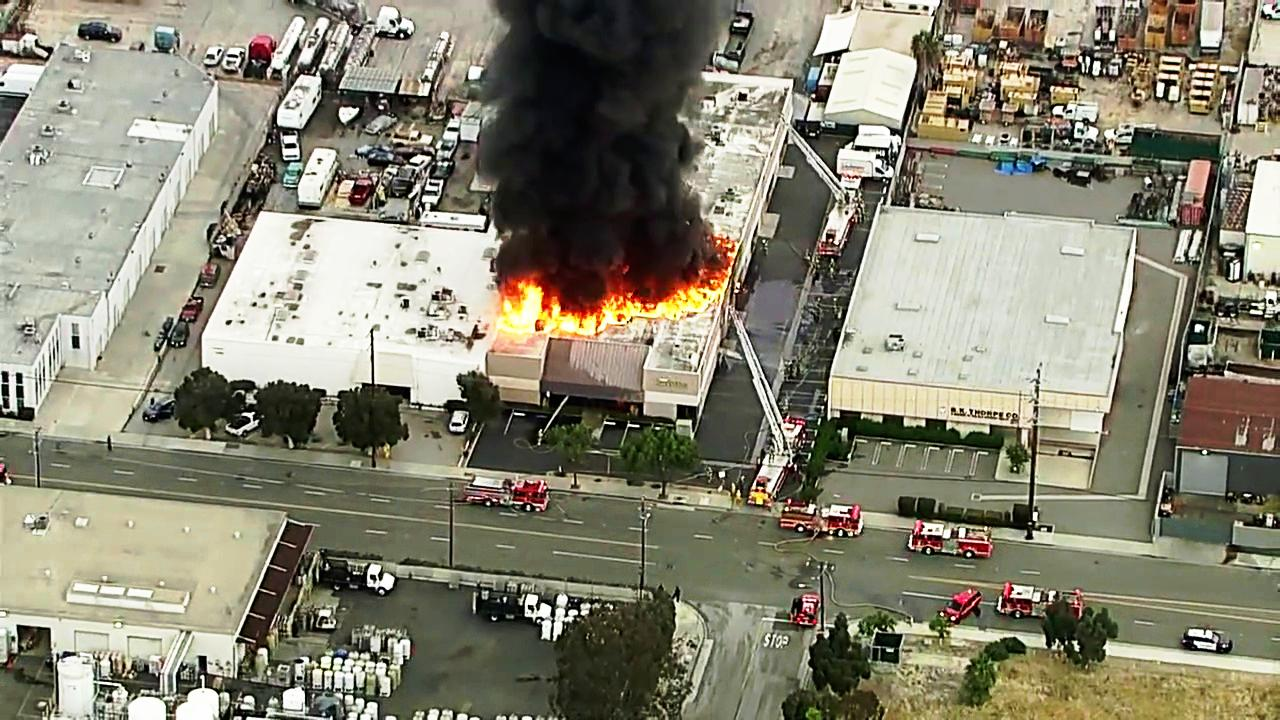fire: (577, 284, 705, 326), (490, 280, 593, 329)
smoke: (515, 0, 693, 265)
